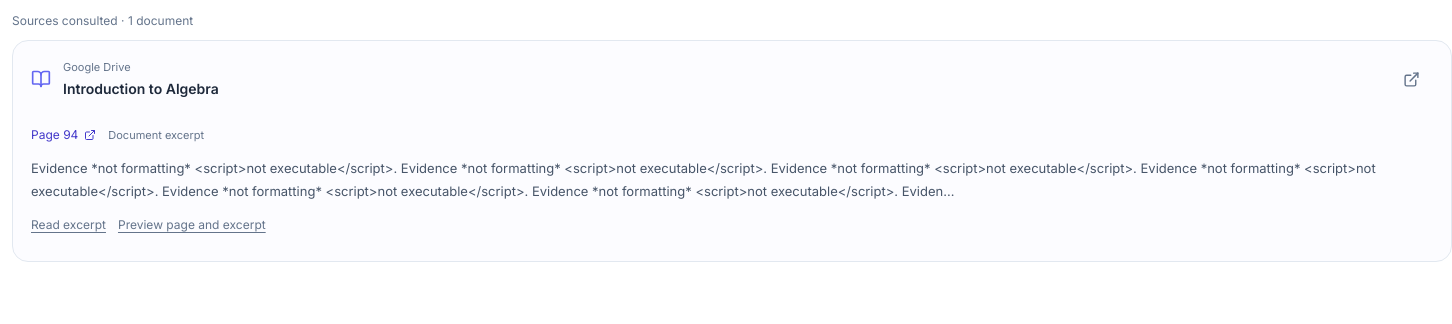
Copilot document cards › expands the saved excerpt with an accessible control and preserves its literal source text
Step 1. Click the button "Read excerpt" → x=68, y=224, box 31,202 -> 106,246
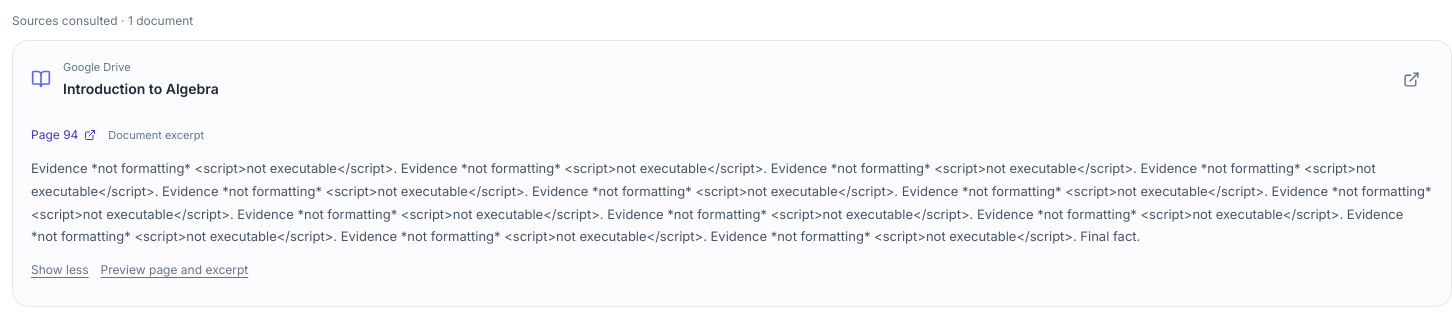
Expected: the text "Final fact" is shown, 31,160 -> 1435,244
Now the button "Show less" is expanded, box 31,248 -> 88,292
